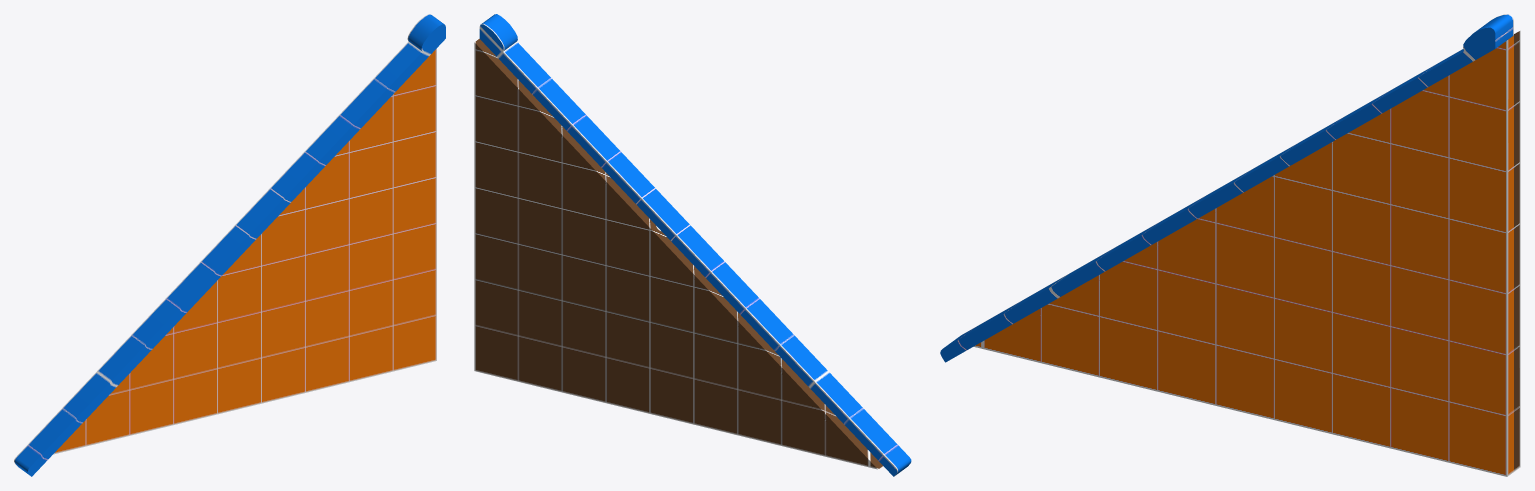
The model's file is M01Roof01_2.FBX.
The picture shows the model from 3 angles, left to right: view 1: azimuth 30°, elevation 25°; view 2: azimuth 150°, elevation 25°; view 3: azimuth 330°, elevation 25°; orthographic projection. The views are drawn at different scales.
Parts seen in each view (by area): view 1: M01Roof01_2; view 2: M01Roof01_2; view 3: M01Roof01_2.
Boxes of the visible parts, x1,y1,x2,y2 form: M01Roof01_2: (14, 14, 445, 476); M01Roof01_2: (474, 14, 911, 476); M01Roof01_2: (940, 14, 1520, 476).
Size of what is drawn, in the model's own units: 4.76 by 3.84 by 0.3758.
